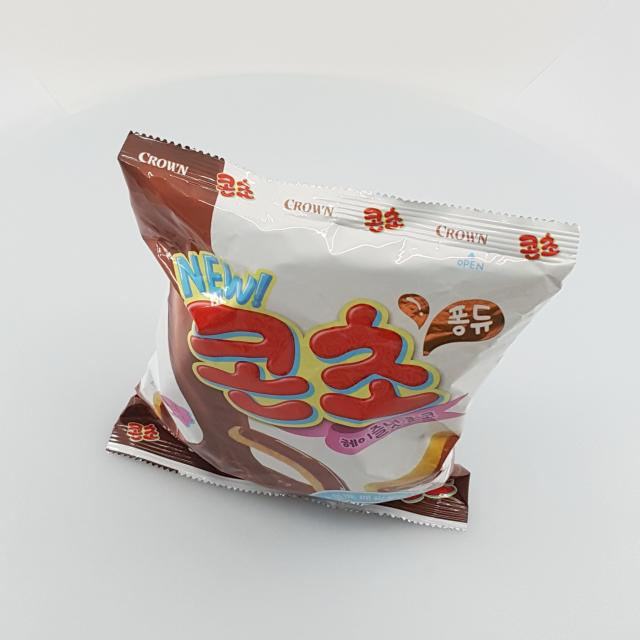-66G: (106, 131, 581, 533)
